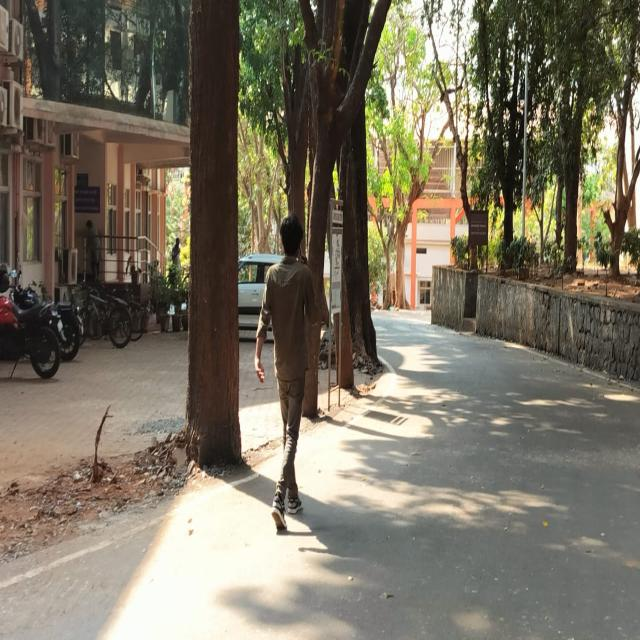bicycle ahead at: (78, 285, 138, 350)
motorcycle ahead at: (0, 270, 68, 386), (34, 276, 84, 362)
person ahead at: (252, 212, 324, 542)
tree ahead at: (183, 0, 245, 468)
